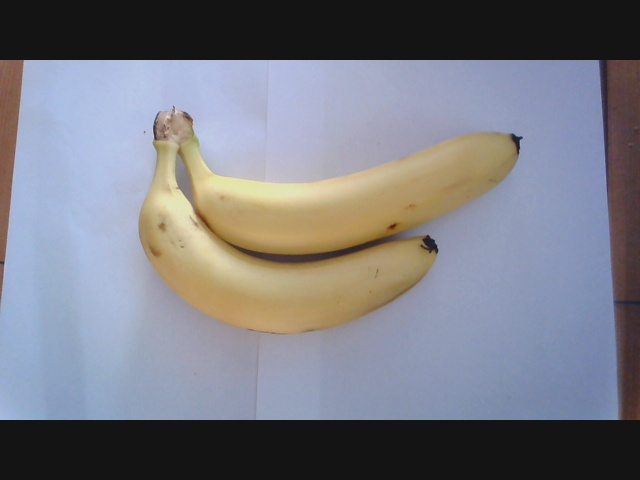banana: (134, 105, 525, 339)
